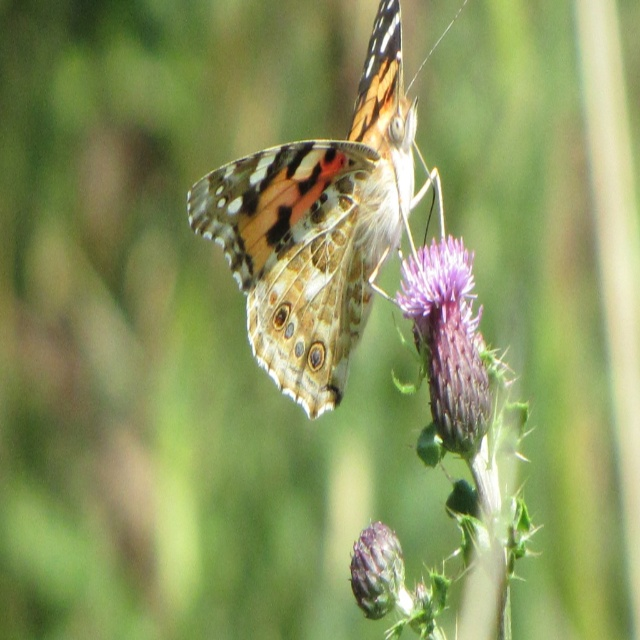Butterfly: (194, 10, 446, 437)
